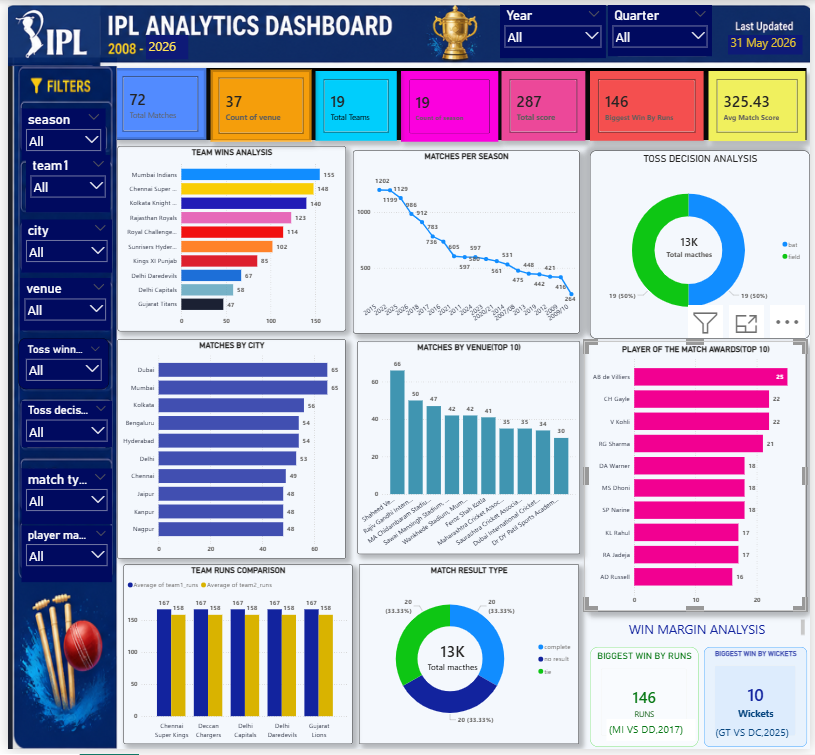

The page's visual inventory and layout, read from the dashboard file:
{"tool":"powerbi","page":{"name":"Page 1","canvas":[1670,1550],"ordinal":0},"visuals":[{"type":"group","id":"g1","title":"Group 5","box":[0,0,1672.4,127.6],"z":0,"group":"g4"},{"type":"image","box":[0,0,1672.4,127.6],"z":0,"group":"g1"},{"type":"image","box":[0,110.3,227.6,1441.4],"z":0,"group":"g3"},{"type":"group","id":"g2","title":"Group 1","box":[222,131,1441,151],"z":0},{"type":"cardVisual","fields":{"Data":["Count(ipl_main_fact.season)"]},"box":[819,136.1,202.5,147.6],"z":0,"group":"g2"},{"type":"cardVisual","title":"BIGGEST WIN BY RUNS","fields":{"Data":["city_dim.Biggest Win By Runs"]},"box":[1211,1338,226,208],"z":0,"group":"g5"},{"type":"slicer","fields":{"Values":["ipl_main_fact.date.Variation.Date Hierarchy.Year"]},"box":[1025.1,0,220.4,110.3],"z":1000,"group":"g4"},{"type":"textbox","box":[1500.2,63.8,155.1,40.4],"z":1000,"group":"g1"},{"type":"cardVisual","fields":{"Data":["city_dim.Total Teams"]},"box":[641.2,136.6,169.2,145.6],"z":1000,"group":"g2"},{"type":"slicer","fields":{"Values":["ipl_main_fact.season"]},"box":[28.8,218,175.3,107.7],"z":1000,"group":"g3"},{"type":"lineChart","title":"MATCHES PER SEASON","fields":{"Category":["ipl_main_fact.season"],"Y":["ipl_main_fact.Matches Per Season"]},"box":[718,302,472,381],"z":1000},{"type":"cardVisual","title":"BIGGEST WIN BY WICKETS","fields":{"Data":["city_dim.Win By Wickets"]},"box":[1448.4,1338,214.6,208],"z":1000,"group":"g5"},{"type":"slicer","fields":{"Values":["ipl_main_fact.date.Variation.Date Hierarchy.Quarter"]},"box":[1249.1,0,216.9,106.9],"z":2000,"group":"g4"},{"type":"textbox","box":[288.2,63.8,88.1,50.5],"z":2000,"group":"g1"},{"type":"cardVisual","fields":{"Data":["city_dim.Total Matches"]},"box":[222,131,191.5,149.7],"z":2000,"group":"g2"},{"type":"slicer","fields":{"Values":["team1_dim.team1"]},"box":[36.6,314.3,175.6,119.5],"z":2000,"group":"g3"},{"type":"cardVisual","fields":{"Data":["city_dim.Total macthes"]},"box":[1324,398,188,206],"z":2000,"group":"g7"},{"type":"clusteredBarChart","title":"MATCHES BY CITY","fields":{"Category":["city_dim.city"],"Y":["Count(ipl_main_fact.match_number)"]},"box":[228.1,695.3,475,456.2],"z":2000},{"type":"textbox","box":[1211,1275,452,43.8],"z":2000,"group":"g5"},{"type":"cardVisual","fields":{"Data":["city_dim.Total macthes"]},"box":[832.9,1278,190.8,157.8],"z":2000,"group":"g6"},{"type":"cardVisual","fields":{"Data":["city_dim.Total score"]},"box":[1028.9,136.6,174.4,145.6],"z":3000,"group":"g2"},{"type":"slicer","fields":{"Values":["city_dim.city"]},"box":[28.8,447.2,188.3,110.5],"z":3000,"group":"g3"},{"type":"columnChart","title":"MATCHES BY VENUE(TOP 10)","fields":{"Category":["venue_dim.venue"],"Y":["Count(ipl_main_fact.match_number)"]},"box":[727,700,463,444],"z":3000},{"type":"textbox","box":[1466.9,1493.6,191.9,47.6],"z":3000,"group":"g5"},{"type":"cardVisual","fields":{"Data":["Count(venue_dim.venue)"]},"box":[422.6,133.9,210.8,150.5],"z":4000,"group":"g2"},{"type":"clusteredBarChart","title":"TEAM WINS ANALYSIS","fields":{"Category":["winner_dim.winner"],"Y":["CountNonNull(winner_dim.winner)"]},"box":[227,293,476,386],"z":4000},{"type":"slicer","fields":{"Values":["venue_dim.venue"]},"box":[23.5,570.4,188.3,109.2],"z":4000,"group":"g3"},{"type":"textbox","box":[1245.6,1487.8,185.2,45],"z":4000,"group":"g5"},{"type":"donutChart","title":"TOSS DECISION ANALYSIS","fields":{"Category":["toss_decision_dim.toss_decision"],"Y":["CountNonNull(toss_winner_dim.toss_winner)"]},"box":[1212,302,458,392],"z":4001,"group":"g7"},{"type":"cardVisual","fields":{"Data":["city_dim.Biggest Win By Runs"]},"box":[1211.1,136.6,236.8,145.6],"z":5000,"group":"g2"},{"type":"slicer","fields":{"Values":["toss_winner_dim.toss_winner"]},"box":[20.9,695.6,188.3,106.6],"z":5000,"group":"g3"},{"type":"clusteredBarChart","title":"PLAYER OF THE MATCH AWARDS(TOP 10)","fields":{"Category":["player_of_match_dim.player_of_match"],"Y":["CountNonNull(player_of_match_dim.player_of_match)"]},"box":[1200,700,464,564],"z":5000},{"type":"donutChart","title":"MATCH RESULT TYPE","fields":{"Category":["result_type_dim.result_type"],"Y":["Count(winner_dim.winner)"]},"box":[732,1167,458,374],"z":5003,"group":"g6"},{"type":"cardVisual","fields":{"Data":["city_dim.Avg Match Score"]},"box":[1458.5,135.9,202.2,146],"z":6000,"group":"g2"},{"type":"slicer","fields":{"Values":["toss_decision_dim.toss_decision"]},"box":[28.8,826.2,188.3,95.9],"z":6000,"group":"g3"},{"type":"clusteredColumnChart","title":"TEAM RUNS COMPARISON","fields":{"Y":["Avg(ipl_main_fact.team1_runs)","Avg(ipl_main_fact.team2_runs)"],"Category":["winner_dim.winner"]},"box":[241,1167,477,374],"z":6000},{"type":"group","id":"g3","title":"Group 4","box":[0,110.3,227.6,1441.4],"z":7000},{"type":"slicer","fields":{"Values":["ipl_main_fact.match_type"]},"box":[28.8,966.5,188.3,116.1],"z":7000,"group":"g3"},{"type":"group","id":"g4","title":"Group 6","box":[0,0,1672.4,127.6],"z":8000},{"type":"slicer","fields":{"Values":["player_of_match_dim.player_of_match"]},"box":[28.8,1085.5,188.3,118.1],"z":8000,"group":"g3"},{"type":"group","id":"g5","title":"Group 7","box":[1211,1275,452,271],"z":10000},{"type":"group","id":"g6","title":"Group 3","box":[732,1167,458,374],"z":11000},{"type":"group","id":"g7","title":"Group 2","box":[1212,302,458,392],"z":11001}]}

Visuals, with their boxes in screenshot pixels (x1, y1, x2, y2), scaled from the page's 1670x1550 canvas onto the 815x755 screenshot:
"Group 5" group: box=[0, 0, 814, 62]
image: box=[0, 0, 814, 62]
image: box=[0, 54, 111, 754]
"Group 1" group: box=[108, 64, 812, 137]
cardVisual - Count(ipl_main_fact.season): box=[400, 66, 499, 138]
"BIGGEST WIN BY RUNS" cardVisual: box=[591, 652, 701, 753]
slicer - ipl_main_fact.date.Variation.Date Hierarchy.Year: box=[500, 0, 608, 54]
textbox: box=[732, 31, 808, 51]
cardVisual - city_dim.Total Teams: box=[313, 67, 395, 137]
slicer - ipl_main_fact.season: box=[14, 106, 100, 159]
"MATCHES PER SEASON" lineChart: box=[350, 147, 581, 333]
"BIGGEST WIN BY WICKETS" cardVisual: box=[707, 652, 812, 753]
slicer - ipl_main_fact.date.Variation.Date Hierarchy.Quarter: box=[610, 0, 715, 52]
textbox: box=[141, 31, 184, 56]
cardVisual - city_dim.Total Matches: box=[108, 64, 202, 137]
slicer - team1_dim.team1: box=[18, 153, 104, 211]
cardVisual - city_dim.Total macthes: box=[646, 194, 738, 294]
"MATCHES BY CITY" clusteredBarChart: box=[111, 339, 343, 561]
textbox: box=[591, 621, 812, 642]
cardVisual - city_dim.Total macthes: box=[406, 623, 500, 699]
cardVisual - city_dim.Total score: box=[502, 67, 587, 137]
slicer - city_dim.city: box=[14, 218, 106, 272]
"MATCHES BY VENUE(TOP 10)" columnChart: box=[355, 341, 581, 557]
textbox: box=[716, 728, 810, 751]
cardVisual - Count(venue_dim.venue): box=[206, 65, 309, 139]
"TEAM WINS ANALYSIS" clusteredBarChart: box=[111, 143, 343, 331]
slicer - venue_dim.venue: box=[11, 278, 103, 331]
textbox: box=[608, 725, 698, 747]
"TOSS DECISION ANALYSIS" donutChart: box=[591, 147, 814, 338]
cardVisual - city_dim.Biggest Win By Runs: box=[591, 67, 707, 137]
slicer - toss_winner_dim.toss_winner: box=[10, 339, 102, 391]
"PLAYER OF THE MATCH AWARDS(TOP 10)" clusteredBarChart: box=[586, 341, 812, 616]
"MATCH RESULT TYPE" donutChart: box=[357, 568, 581, 751]
cardVisual - city_dim.Avg Match Score: box=[712, 66, 810, 137]
slicer - toss_decision_dim.toss_decision: box=[14, 402, 106, 449]
"TEAM RUNS COMPARISON" clusteredColumnChart: box=[118, 568, 350, 751]
"Group 4" group: box=[0, 54, 111, 754]
slicer - ipl_main_fact.match_type: box=[14, 471, 106, 527]
"Group 6" group: box=[0, 0, 814, 62]
slicer - player_of_match_dim.player_of_match: box=[14, 529, 106, 586]
"Group 7" group: box=[591, 621, 812, 753]
"Group 3" group: box=[357, 568, 581, 751]
"Group 2" group: box=[591, 147, 814, 338]
